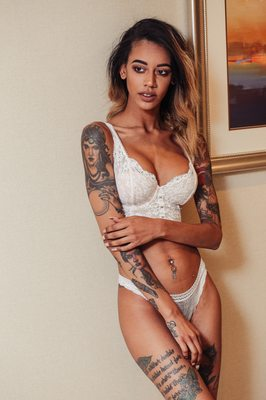pizza: (79, 20, 226, 399)
